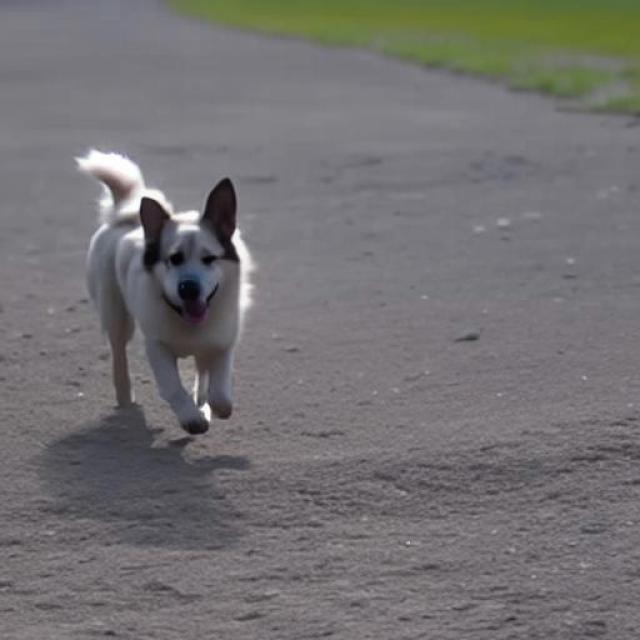Dog: (81, 148, 252, 436)
